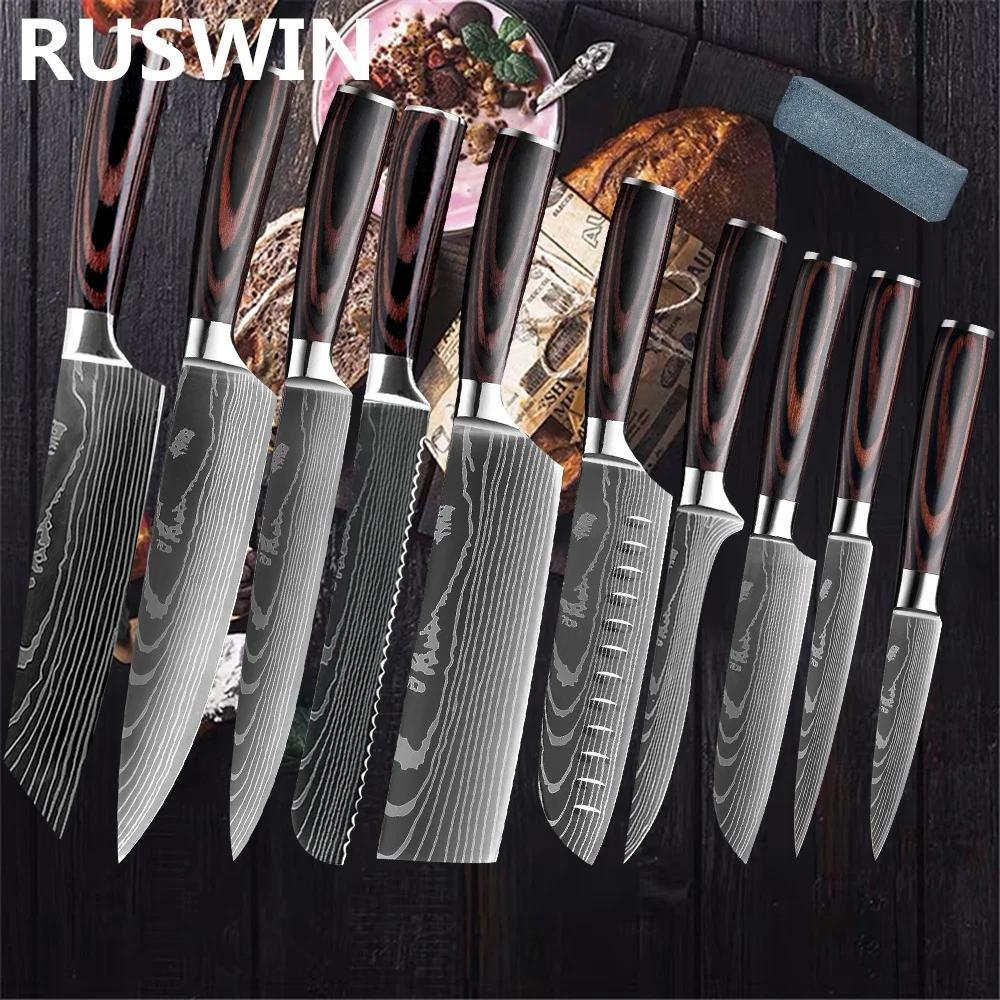faca: (117, 71, 288, 859), (378, 130, 561, 863), (6, 0, 165, 836), (291, 107, 464, 864), (229, 81, 394, 857), (627, 219, 783, 859), (539, 178, 680, 863), (713, 251, 854, 862), (795, 271, 916, 850), (870, 320, 993, 857)
